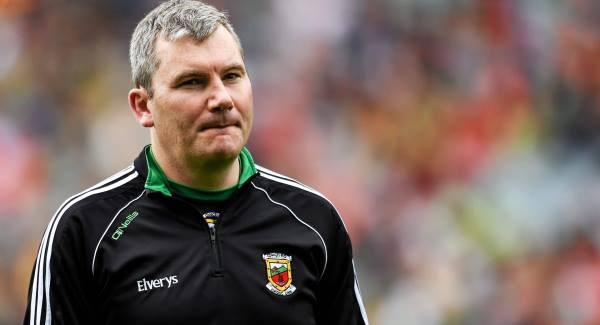player: (51, 1, 357, 319)
